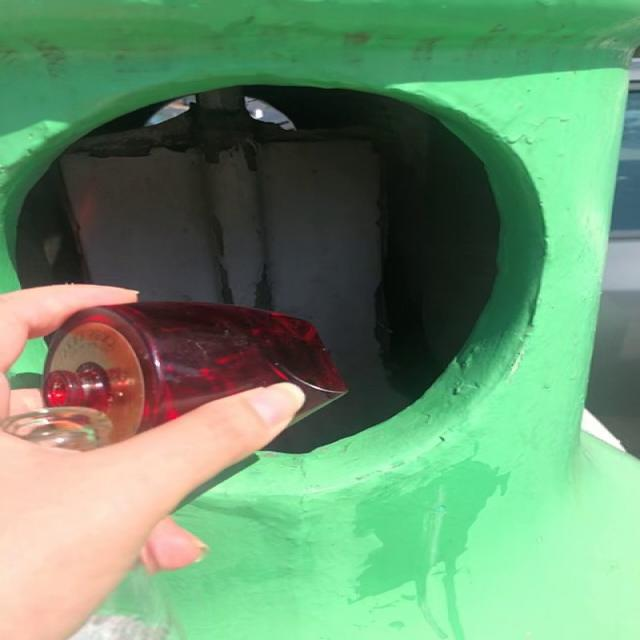glass: (41, 302, 347, 442)
